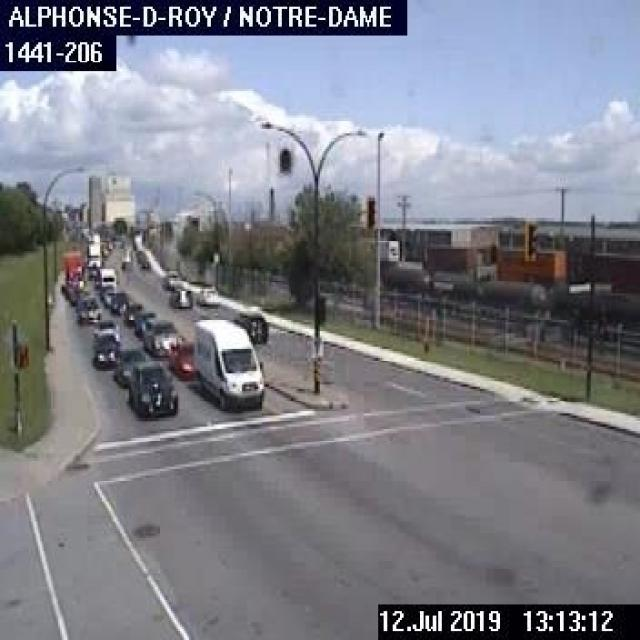vehicle: (188, 314, 266, 414), (126, 355, 178, 419), (231, 308, 270, 344), (141, 318, 179, 354), (168, 338, 196, 379), (113, 348, 141, 388), (90, 333, 119, 369), (191, 277, 218, 309), (75, 296, 104, 323), (62, 248, 84, 283), (121, 300, 146, 324), (168, 284, 191, 310), (97, 262, 115, 294), (132, 248, 151, 274), (159, 269, 183, 287)
